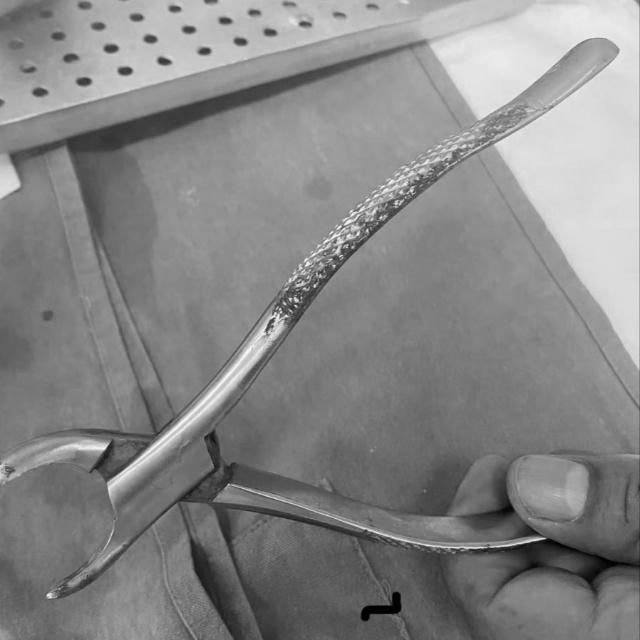forceps: (0, 38, 620, 601)
